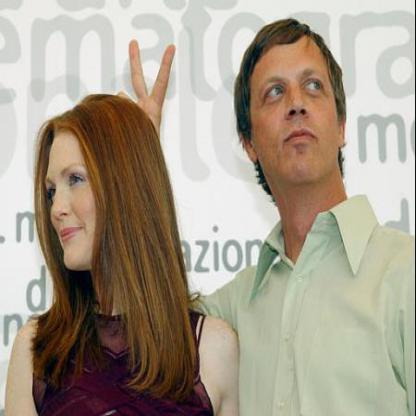face: (249, 20, 343, 191), (40, 112, 124, 279)
